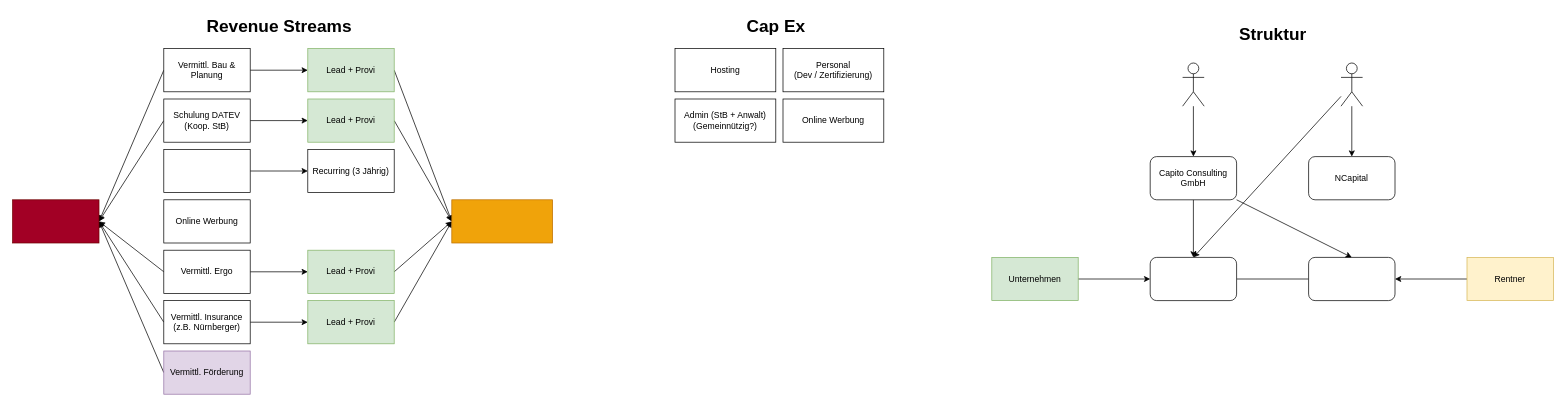
Image size: 1566x407. Some labels were removed from this diagram. The centre of each missing label's shape, as x and y in pixels:
Aktivrente UG: the point at 1351,279
Capito: the point at 1193,84
Nicolai: the point at 1351,84
Partner: the point at 55,221
Seniorenfreundlich gUG: the point at 1193,279
Siegel Verkauf: the point at 206,171
Wichtig! Bewertung & Garantie von Extern!: the point at 502,221
